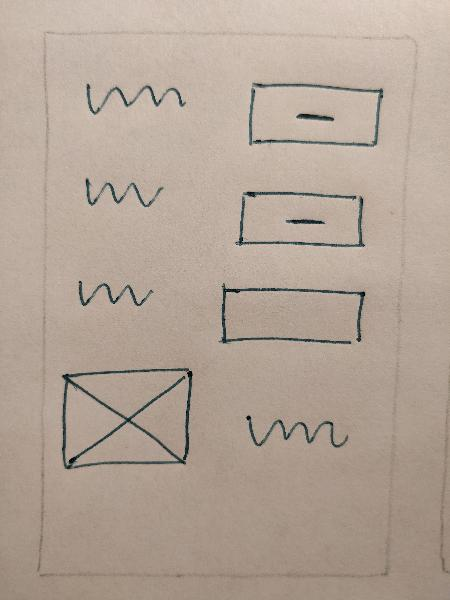button: (243, 73, 386, 157), (229, 176, 372, 260)
image: (52, 364, 196, 476)
text: (76, 70, 192, 123), (60, 262, 176, 315), (69, 164, 185, 217), (236, 405, 352, 458)
text_input: (214, 275, 369, 350)
